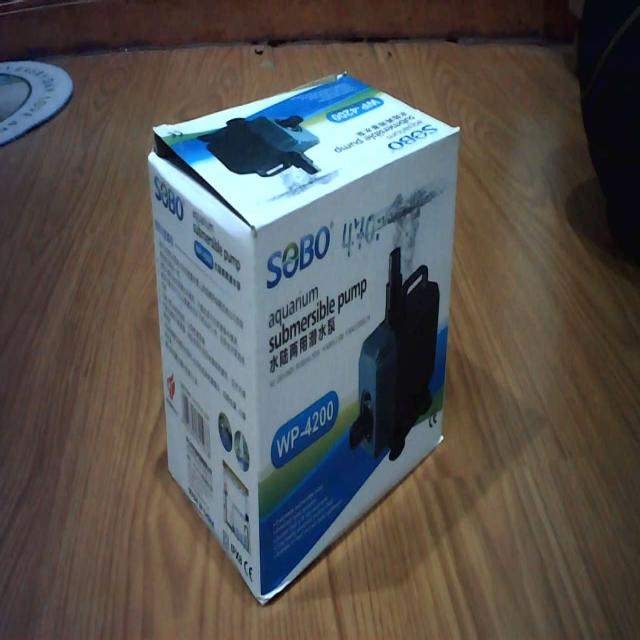SOBO_WP_4200: (141, 59, 465, 606)
